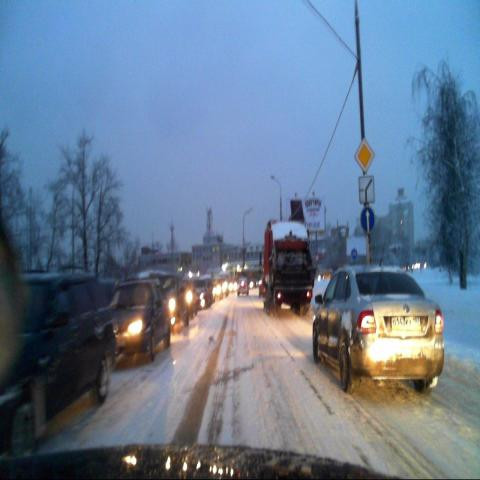4_1_1: (360, 206, 376, 234)
